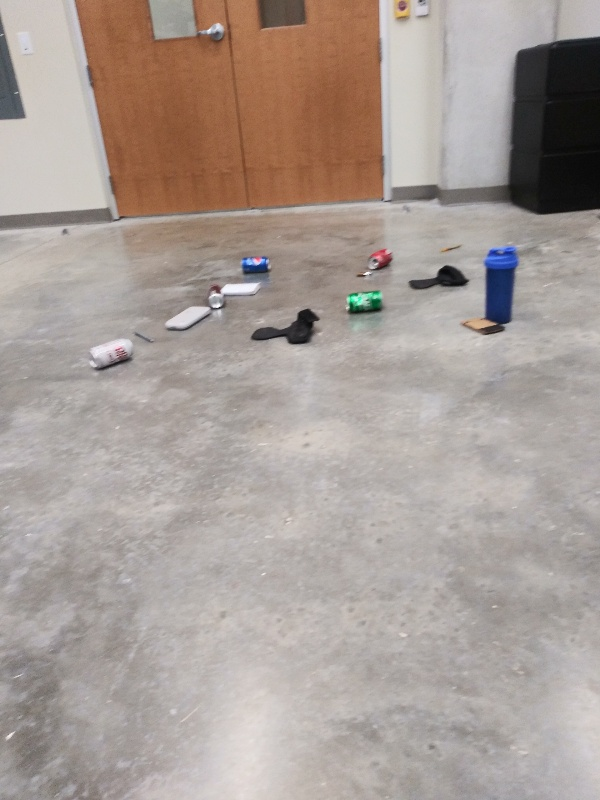can: (85, 336, 139, 372), (343, 287, 388, 317), (364, 245, 397, 276), (238, 253, 275, 276), (204, 280, 228, 312)
